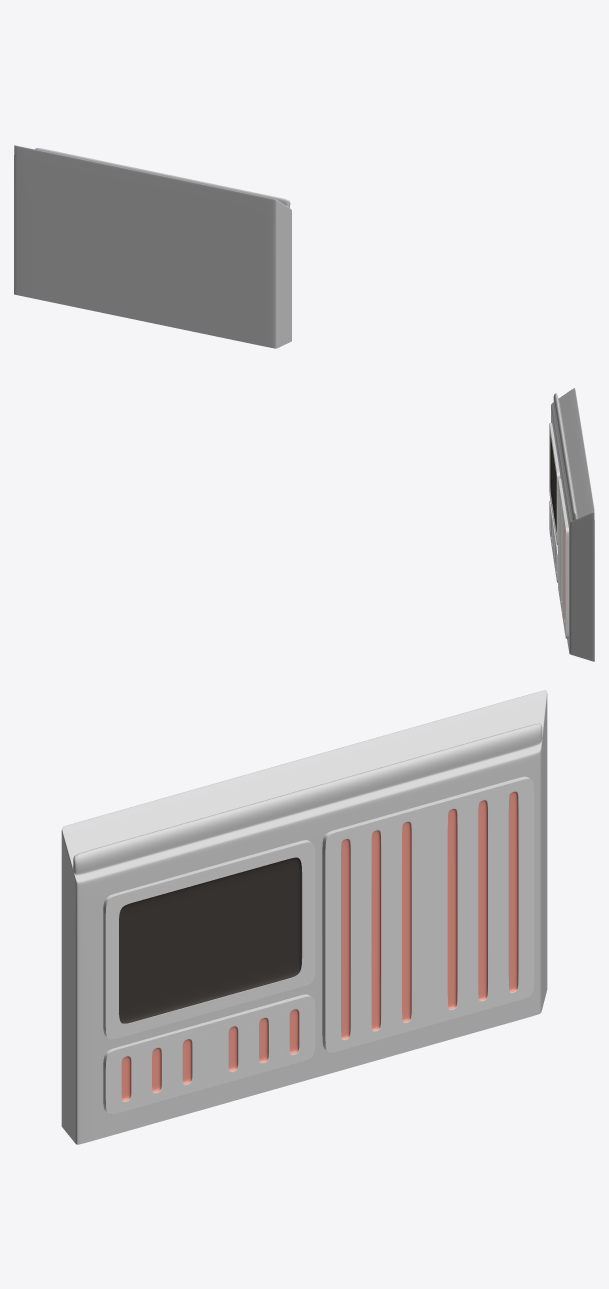
The model's file is Moonbase_Control_Room_Wall_Side_2.fbx.
3 renders of one model, top to bottom at view 1: azimuth 30°, elevation 25°; view 2: azimuth 150°, elevation 25°; view 3: azimuth 270°, elevation 25°, orthographic. The views are drawn at different scales.
Visible parts, largest first — view 1: Plane.009; view 2: Plane.009; view 3: Plane.009.
Boxes of the visible parts, bbox=[...] form: Plane.009: bbox=[14, 145, 291, 348]; Plane.009: bbox=[549, 388, 594, 661]; Plane.009: bbox=[61, 690, 547, 1144].
Size of the model in its own units: 697 by 172 by 253.
